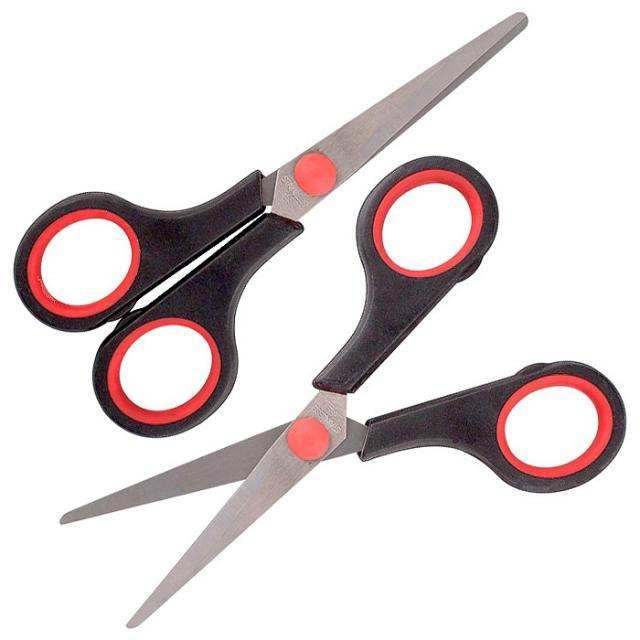tesoura: (42, 137, 637, 638), (6, 0, 543, 459)
